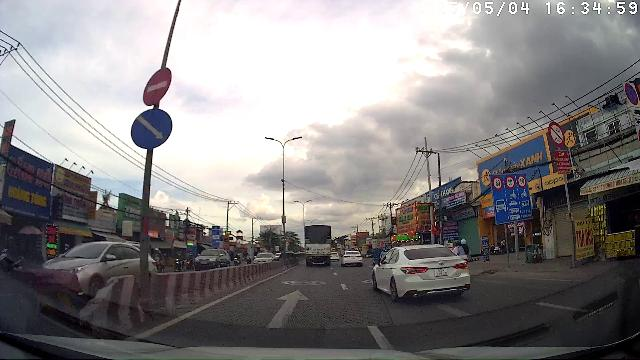102-cam-di-nguoc-chieu: (144, 67, 172, 105)
127-toc-do-toi-da-60: (504, 174, 516, 190), (492, 176, 504, 190), (517, 174, 527, 188)
130-cam-dung-va-do-xe: (624, 82, 638, 106)
302a-huong-phai-di-vong-chuong-ngai-vat-1: (131, 109, 173, 149)
